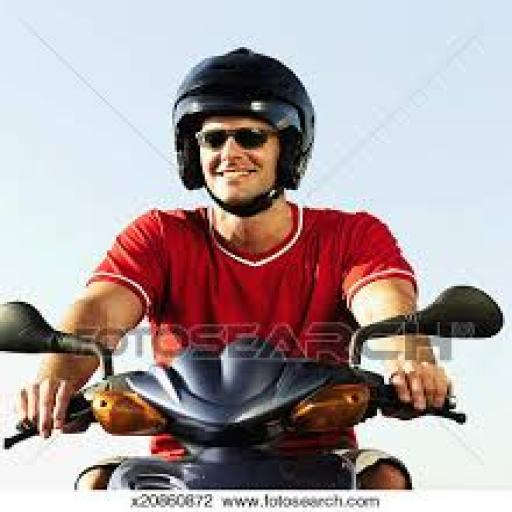helmet: (168, 45, 316, 192)
overloading: (0, 280, 505, 490)
